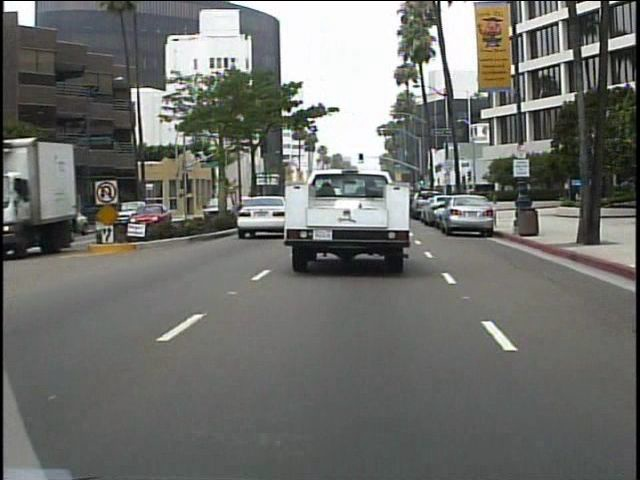person: (581, 177, 600, 224)
